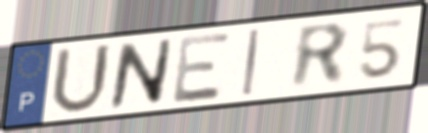5: (355, 16, 407, 81)
E: (170, 29, 234, 106)
I: (240, 27, 263, 98)
N: (106, 36, 176, 111)
R: (289, 21, 351, 92)
U: (47, 42, 114, 117)
